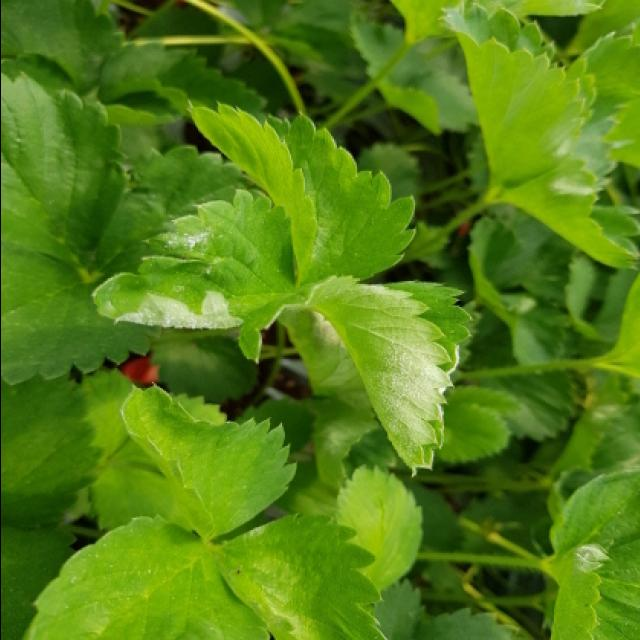Powdery Mildew Leaf: (91, 187, 303, 365), (305, 274, 474, 479)
